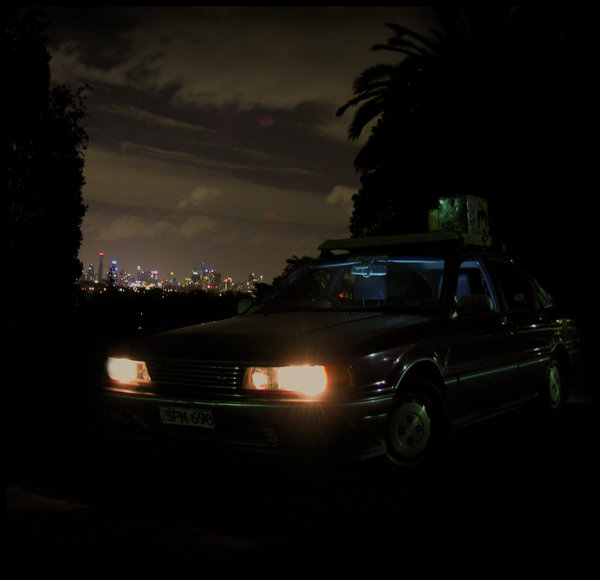car: (104, 240, 571, 472)
